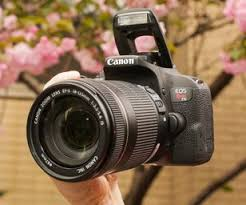camera: (28, 54, 212, 175)
